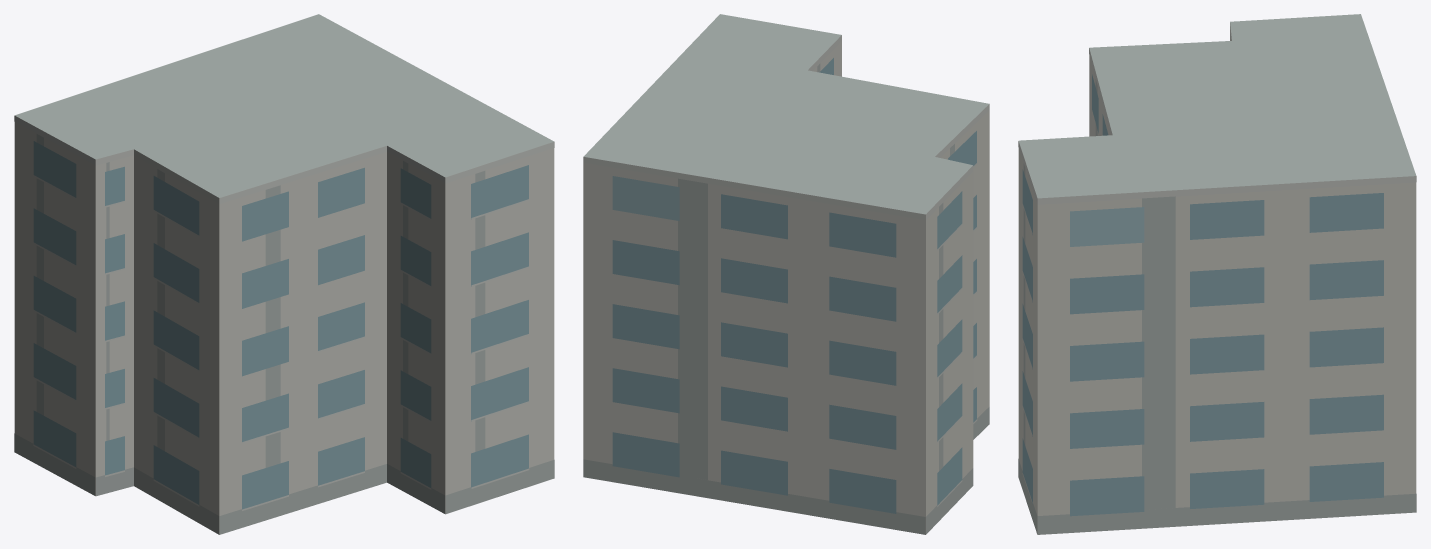
Rendered from survey-upis-32576994.glb.
3 views of the same model, side by side, from view 1: azimuth 30°, elevation 25°; view 2: azimuth 150°, elevation 25°; view 3: azimuth 270°, elevation 25° (orthographic). The views are drawn at different scales.
Visible parts, largest first — view 1: survey-upis-32576994.tmp; view 2: survey-upis-32576994.tmp; view 3: survey-upis-32576994.tmp.
Part boxes in pixels (x1=…): survey-upis-32576994.tmp: x1=14, y1=14, x2=554, y2=534; survey-upis-32576994.tmp: x1=583, y1=14, x2=989, y2=534; survey-upis-32576994.tmp: x1=1018, y1=14, x2=1416, y2=534.
Size of the model in its own units: 15.52 by 13.2 by 14.16.
